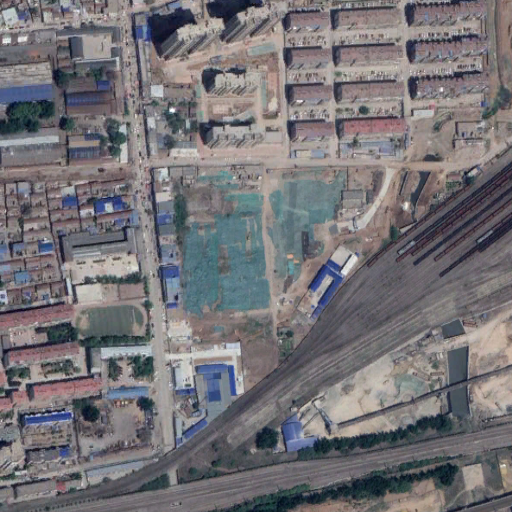cw: (159, 167, 351, 309)
